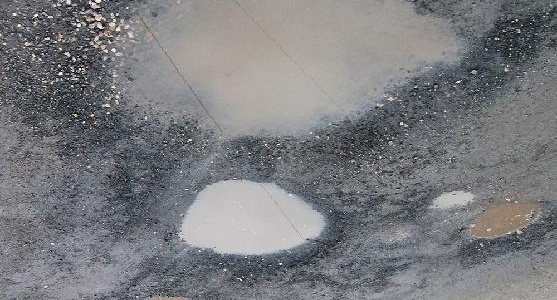pothole: (79, 0, 526, 166), (165, 177, 339, 273), (455, 199, 556, 257), (427, 187, 476, 214)
